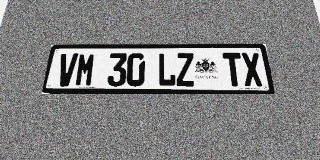0: (126, 53, 145, 86)
3: (107, 53, 127, 86)
L: (157, 53, 176, 86)
M: (74, 53, 96, 86)
T: (222, 53, 244, 86)
V: (55, 53, 78, 86)
X: (240, 53, 264, 86)
Z: (176, 53, 195, 86)
